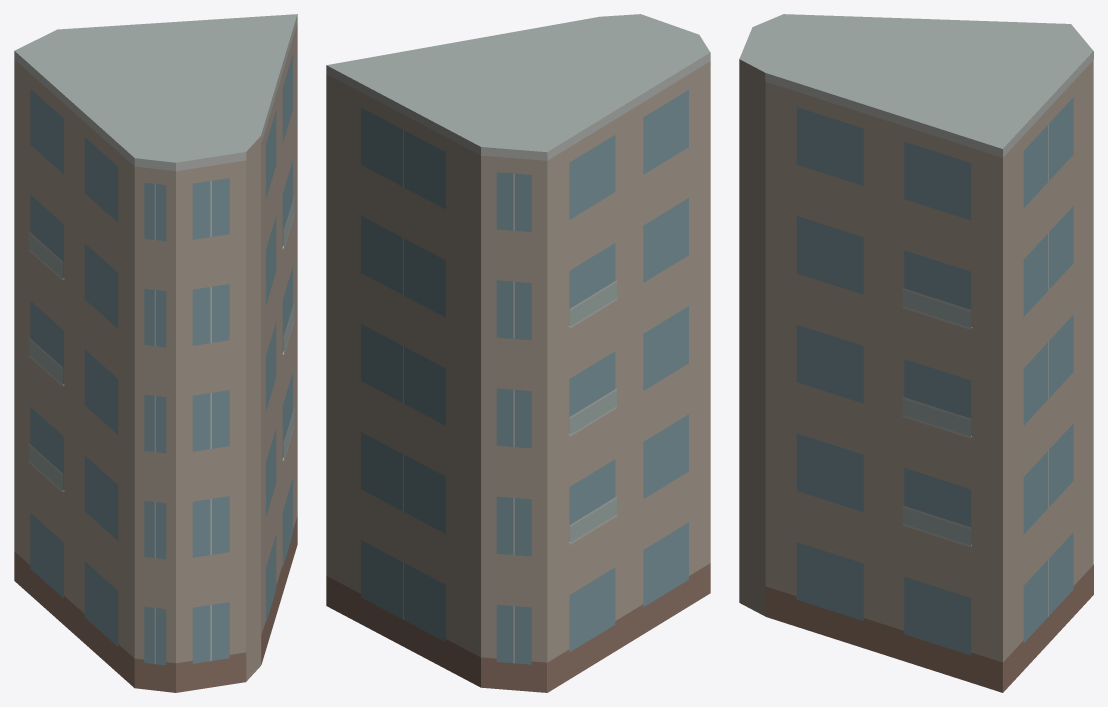
The model's file is survey-upis-32969630.glb.
3 renders of one model, left to right at view 1: azimuth 30°, elevation 25°; view 2: azimuth 150°, elevation 25°; view 3: azimuth 270°, elevation 25°, orthographic. The views are drawn at different scales.
Parts seen in each view (by area): view 1: survey-upis-32969630.tmp; view 2: survey-upis-32969630.tmp; view 3: survey-upis-32969630.tmp.
Part boxes in pixels (<box>): survey-upis-32969630.tmp: <box>14,14,297,692</box>; survey-upis-32969630.tmp: <box>326,14,710,692</box>; survey-upis-32969630.tmp: <box>739,14,1093,692</box>.
Size of the model in its own units: 8.13 by 15.25 by 9.02.
